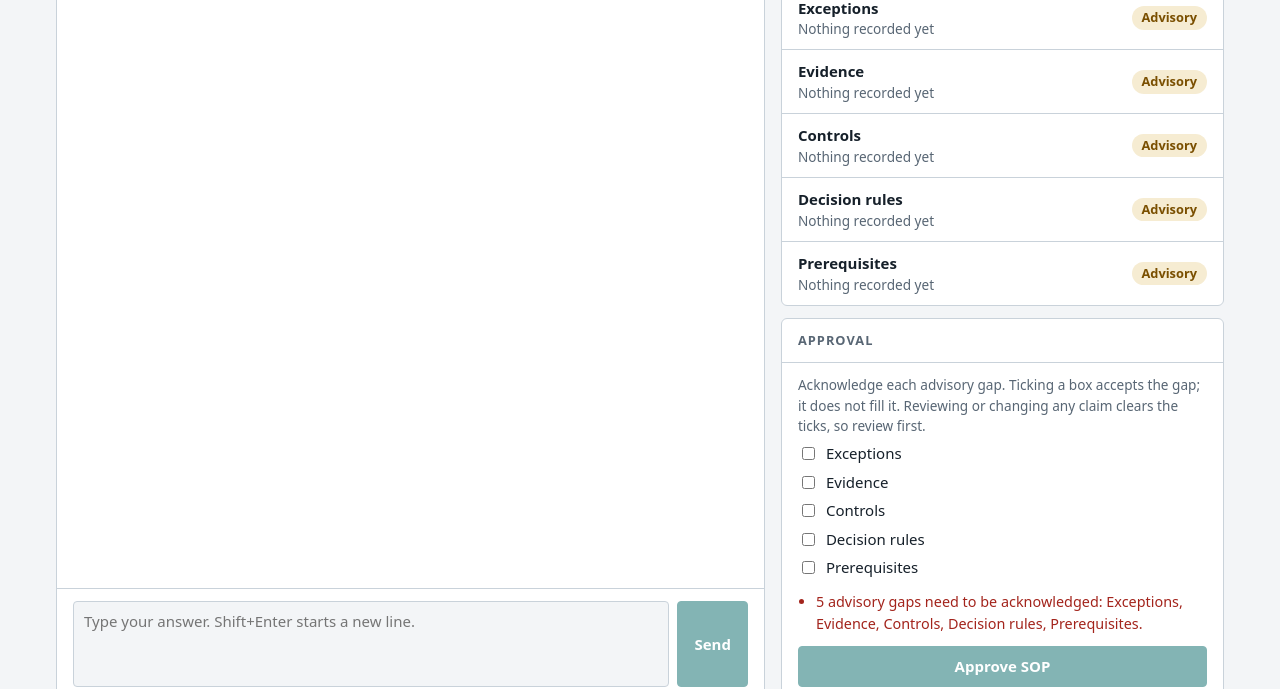
it: acknowledged advisory gaps › changes the chip to Acknowledged and splits the header count when a gap is ticked
The image size is (1280, 689).
(page scrolled)
Expected: the button "Approve SOP" is shown, [798,646,1207,687]
Expected: the 1st text "Advisory" is shown, [1132,6,1207,30]
Click the checkbox labelled "Exceptions". click: coordinates (808, 454)
box: [802,447,815,460]
(page scrolled)
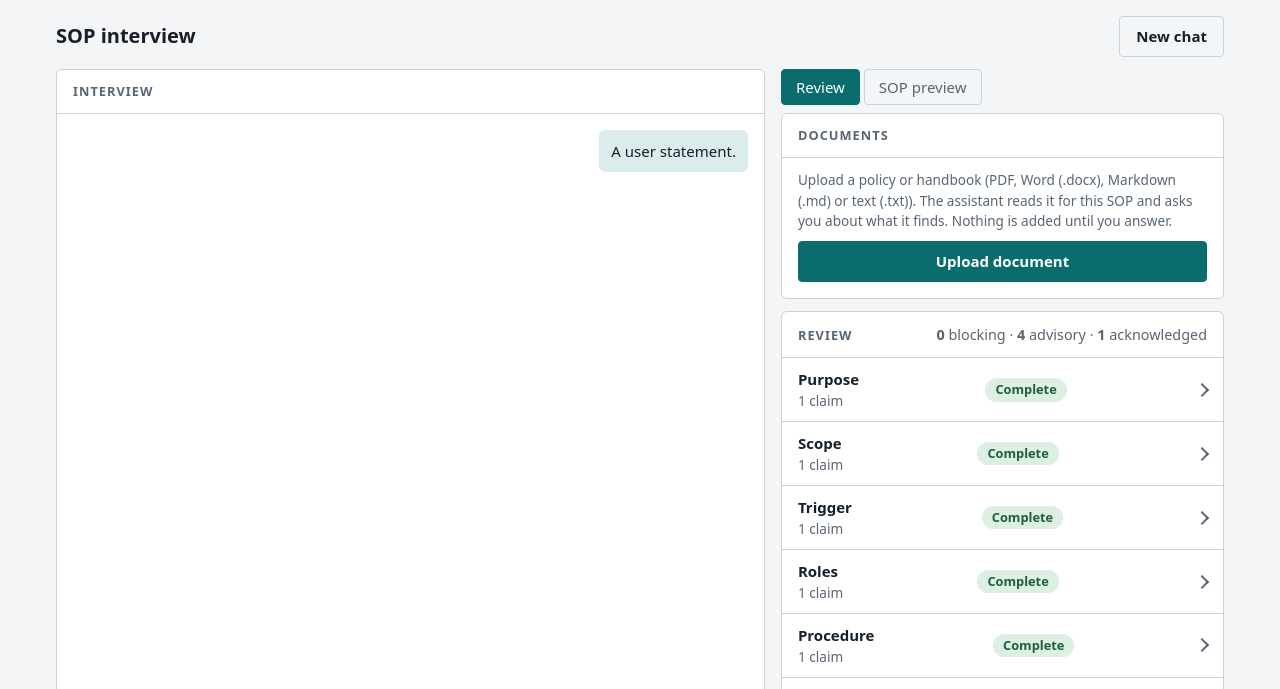
Expected: the element with class "summary" reads "0 blocking · 4 advisory · 1 acknowledged", [936,324,1207,346]
